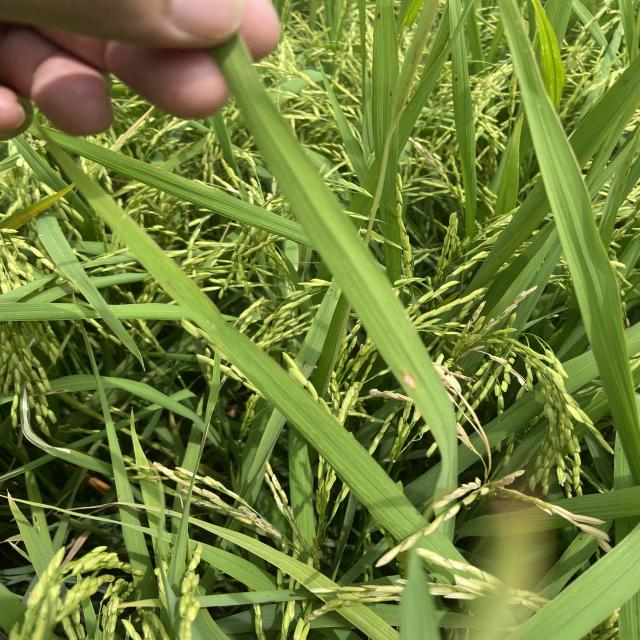Dao on: (400, 371, 417, 392)
